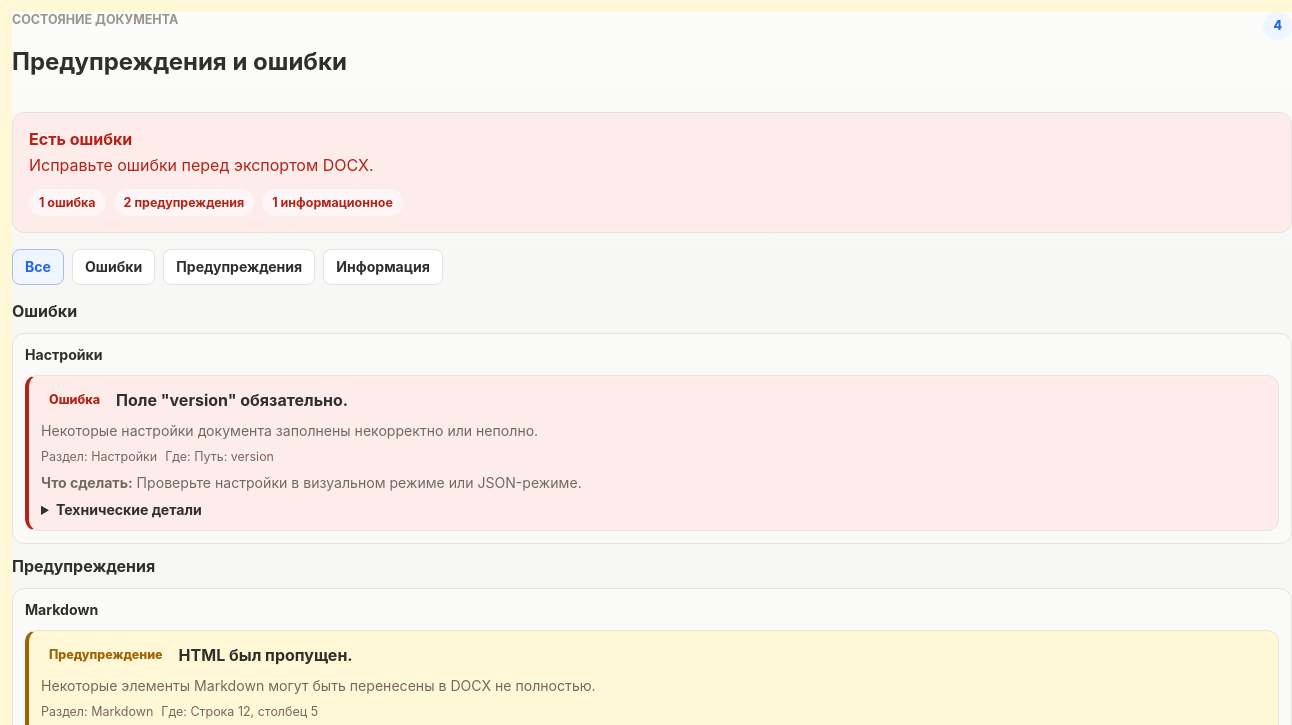
Test case: DiagnosticsPanel › filters by warnings
The image size is (1292, 725).
Click the button "Предупреждения". click: click(239, 267)
box: top-left (163, 249), bottom-right (315, 285)
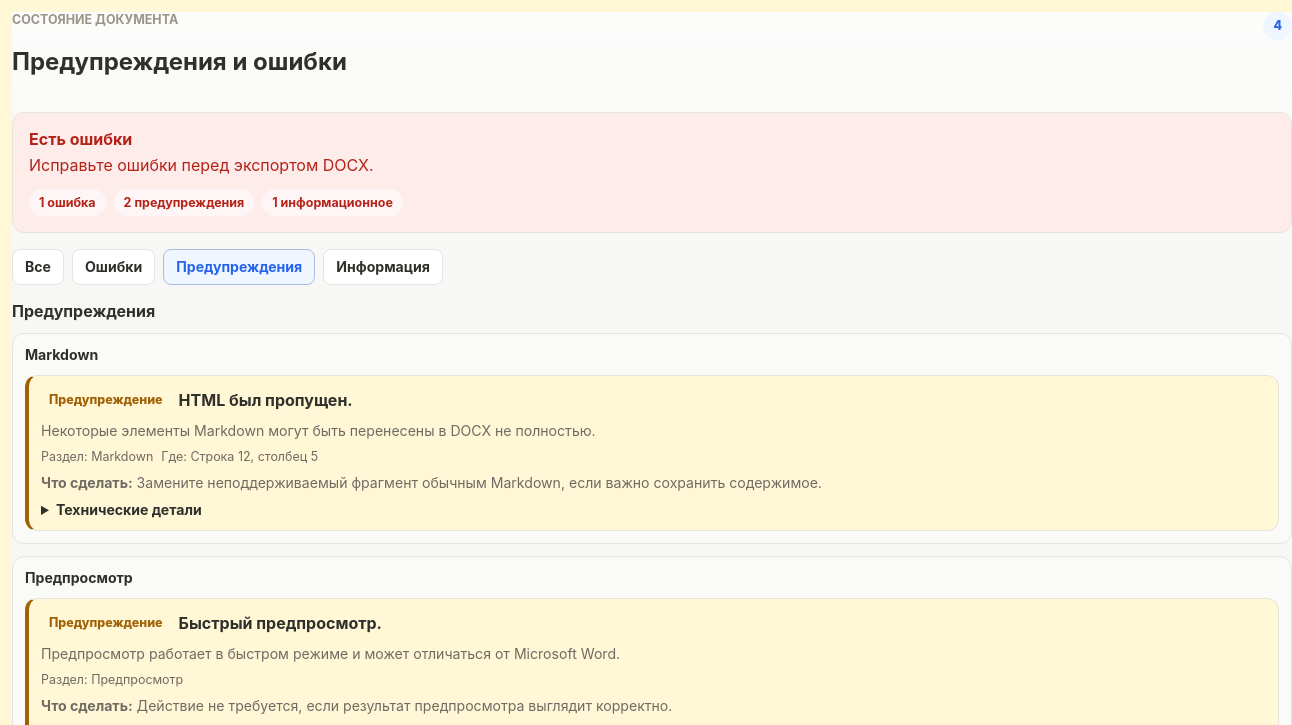
Expected: the text "HTML был пропущен." is shown, top-left (179, 388), bottom-right (353, 412)
Expected: the text "Поле \"version\" обязательно." is gone
